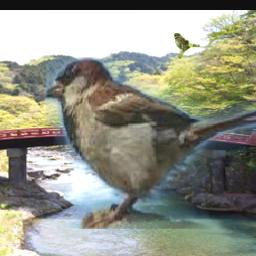Sparrow: (45, 57, 256, 229), (174, 32, 201, 58)
